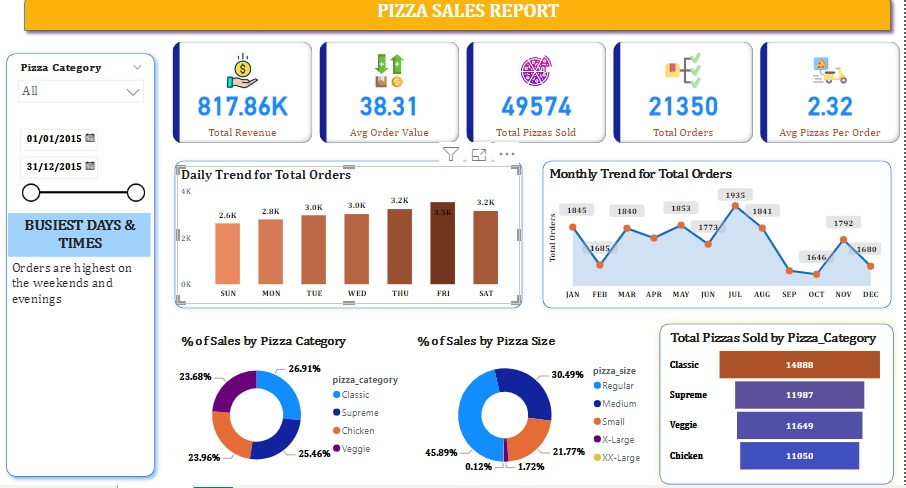

What the dashboard file says about the page in this screenshot:
{"tool":"powerbi","page":{"name":"Page 1","canvas":[1280,720],"ordinal":0},"visuals":[{"type":"shape","box":[0,85,228,617.3],"z":0,"group":"g1"},{"type":"cardVisual","fields":{"Data":["pizza_sales.Total Revenue","pizza_sales.Avg Order Value","pizza_sales.Total Pizzas Sold","pizza_sales.Total Orders","pizza_sales.Avg Pizzas Per Order"]},"box":[239.3,72.2,1040.7,154.3],"z":1000},{"type":"shape","box":[239.3,237.9,508.3,225.1],"z":2000},{"type":"columnChart","title":"Daily Trend for Total Orders","fields":{"Category":["pizza_sales.Order Day"],"Y":["pizza_sales.Total Orders"]},"box":[250.6,253.5,485.7,195.4],"z":3000},{"type":"shape","box":[760.4,237.9,509.7,225.1],"z":4000},{"type":"areaChart","title":"Monthly Trend for Total Orders","fields":{"Y":["pizza_sales.Total Orders"],"Category":["pizza_sales.Order Month"]},"box":[771.7,254.9,481.4,195.4],"z":5000},{"type":"shape","box":[924.6,467.3,350,246.4],"z":6000},{"type":"donutChart","title":"% of Sales by Pizza Category","fields":{"Y":["pizza_sales.Total Revenue"],"Category":["pizza_sales.pizza_category"]},"box":[250.6,492.7,334.2,209.6],"z":7000},{"type":"donutChart","title":"% of Sales by Pizza Size","fields":{"Y":["pizza_sales.Total Revenue"],"Category":["pizza_sales.pizza_size"]},"box":[584.8,492.7,339.8,209.6],"z":8000},{"type":"funnel","title":"Total Pizzas Sold by Pizza_Category","fields":{"Category":["pizza_sales.pizza_category"],"Y":["pizza_sales.Total Pizzas Sold"]},"box":[943,487.1,312.9,205.3],"z":9000},{"type":"slicer","fields":{"Values":["pizza_sales.pizza_category"]},"box":[15.6,100.6,198.2,70.8],"z":10000,"group":"g1"},{"type":"textbox","box":[11.3,320,202.5,62.3],"z":11000,"group":"g1"},{"type":"slicer","title":"Pizza Size","fields":{"Values":["pizza_sales.order_date"]},"box":[15.6,191.2,198.2,118.9],"z":12000,"group":"g1"},{"type":"shape","box":[25.5,0,1244.6,70.8],"z":13000},{"type":"textbox","box":[460.2,14.2,405,45.3],"z":14000},{"type":"textbox","box":[11.3,382.3,202.5,104.8],"z":14002,"group":"g1"},{"type":"group","id":"g1","title":"Group 1","box":[0,85,228,617.3],"z":14003}]}

Visuals, with their boxes on the page's 1280x720 design canvas (x1, y1, x2, y2). These are canvas units, not pixel positions in the 906x488 screenshot, which may show the page scaled, cropped or inside an application window:
shape: <region>0, 85, 228, 702</region>
cardVisual - pizza_sales.Total Revenue x pizza_sales.Avg Order Value: <region>239, 72, 1280, 226</region>
shape: <region>239, 238, 748, 463</region>
"Daily Trend for Total Orders" columnChart: <region>251, 254, 736, 449</region>
shape: <region>760, 238, 1270, 463</region>
"Monthly Trend for Total Orders" areaChart: <region>772, 255, 1253, 450</region>
shape: <region>925, 467, 1275, 714</region>
"% of Sales by Pizza Category" donutChart: <region>251, 493, 585, 702</region>
"% of Sales by Pizza Size" donutChart: <region>585, 493, 925, 702</region>
"Total Pizzas Sold by Pizza_Category" funnel: <region>943, 487, 1256, 692</region>
slicer - pizza_sales.pizza_category: <region>16, 101, 214, 171</region>
textbox: <region>11, 320, 214, 382</region>
"Pizza Size" slicer: <region>16, 191, 214, 310</region>
shape: <region>26, 0, 1270, 71</region>
textbox: <region>460, 14, 865, 60</region>
textbox: <region>11, 382, 214, 487</region>
"Group 1" group: <region>0, 85, 228, 702</region>
